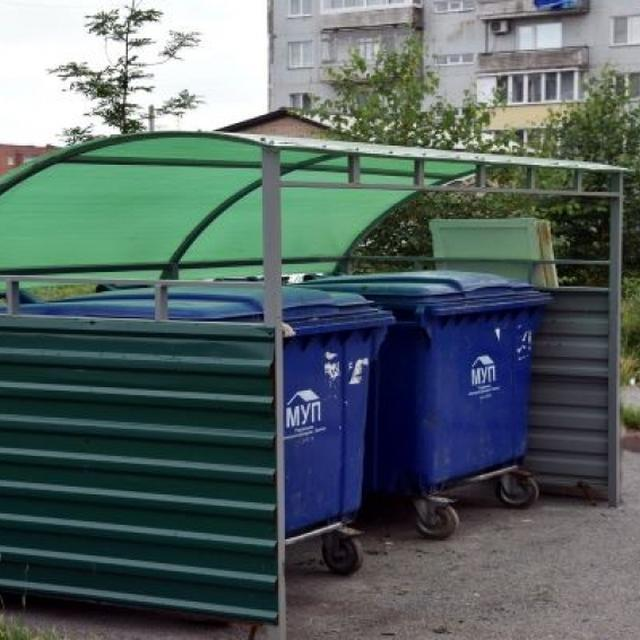Trash_Can_Closed: (2, 283, 396, 547), (291, 269, 554, 492)
